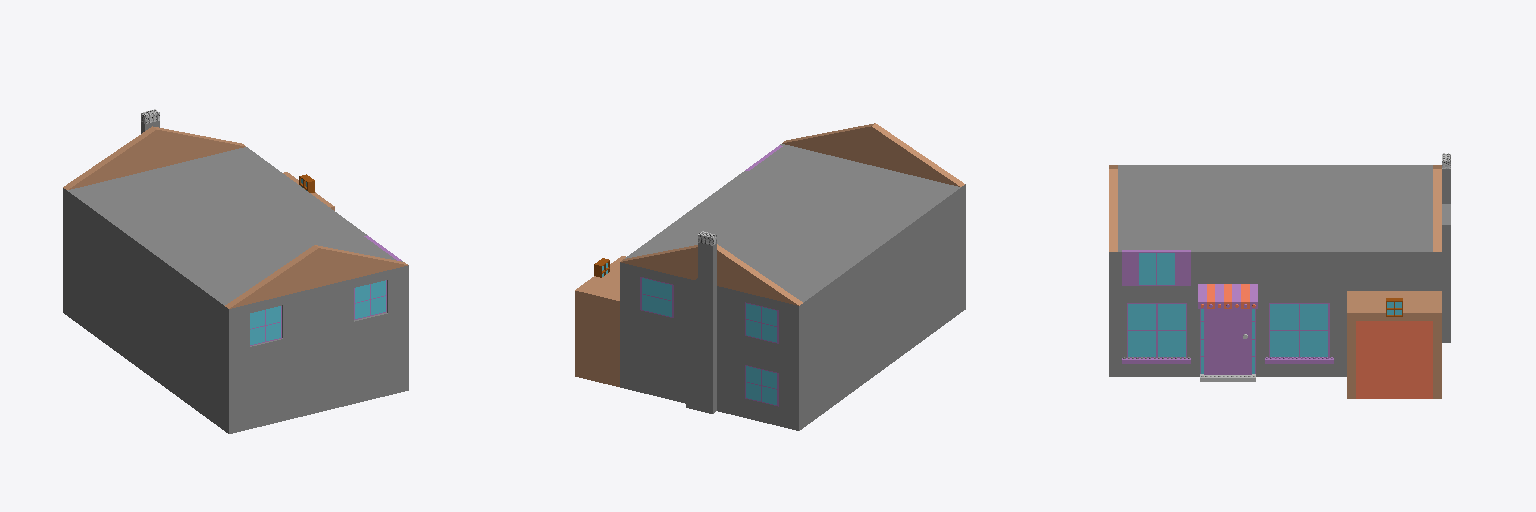
The picture shows the model from 3 angles: view 1: azimuth 30°, elevation 25°; view 2: azimuth 150°, elevation 25°; view 3: azimuth 270°, elevation 25°; orthographic projection.
Parts seen in each view (by area): view 1: Casa, Triangulo_izq, Triangulo_der, Ventanilla010, Ventanilla009; view 2: Casa, Cochera, Box003, Triangulo_izq, Triangulo_der, Ventanilla004, Ventanilla005, Ventanilla003; view 3: Casa, Puerta_Cochera, Cochera, Ventana_inf_der, Ventana_inf_izq, Puerta001, Ventana_sup_izq, Ventana_sup_der, Box003, Triangulo_izq, Triangulo_der.
Part boxes in pixels (left/top/right/bottom): Casa: left=63, top=147, right=408, bottom=433; Triangulo_izq: left=225, top=245, right=407, bottom=308; Triangulo_der: left=63, top=126, right=245, bottom=189; Ventanilla010: left=354, top=280, right=386, bottom=319; Ventanilla009: left=250, top=306, right=281, bottom=345; Casa: left=620, top=144, right=965, bottom=430; Cochera: left=575, top=256, right=625, bottom=386; Box003: left=686, top=243, right=716, bottom=413; Triangulo_izq: left=782, top=123, right=964, bottom=186; Triangulo_der: left=621, top=244, right=802, bottom=305; Ventanilla004: left=745, top=302, right=778, bottom=343; Ventanilla005: left=745, top=365, right=778, bottom=406; Ventanilla003: left=640, top=277, right=673, bottom=317; Casa: left=1109, top=165, right=1441, bottom=376; Puerta_Cochera: left=1356, top=321, right=1432, bottom=398; Cochera: left=1347, top=291, right=1441, bottom=398; Ventana_inf_der: left=1265, top=303, right=1333, bottom=363; Ventana_inf_izq: left=1122, top=303, right=1190, bottom=363; Puerta001: left=1204, top=309, right=1251, bottom=374; Ventana_sup_izq: left=1122, top=250, right=1190, bottom=285; Ventana_sup_der: left=1265, top=250, right=1333, bottom=285; Box003: left=1442, top=169, right=1450, bottom=342; Triangulo_izq: left=1109, top=165, right=1117, bottom=251; Triangulo_der: left=1433, top=165, right=1441, bottom=251.
Size of the model in its own units: 60 by 45.25 by 79.
9 materials, 8 textured.